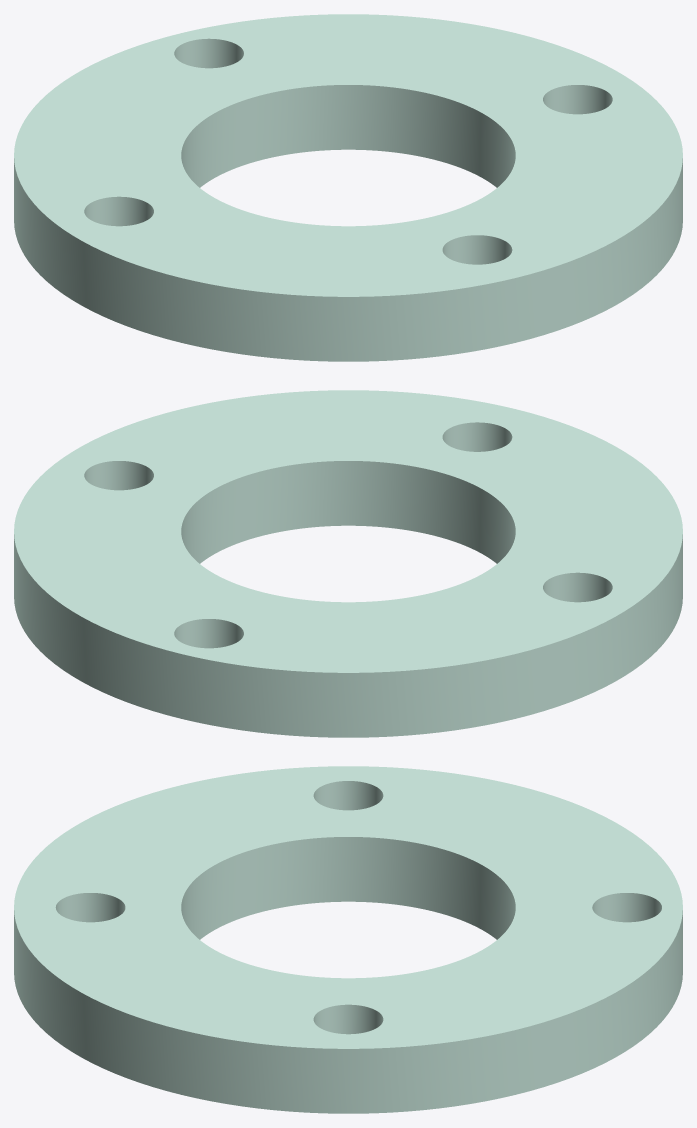
The picture shows the model from 3 angles, top to bottom: view 1: azimuth 30°, elevation 25°; view 2: azimuth 150°, elevation 25°; view 3: azimuth 270°, elevation 25°; orthographic projection.
Parts seen in each view (by area): view 1: Renderer Node; view 2: Renderer Node; view 3: Renderer Node.
Part boxes in pixels (left/top/right/bottom): Renderer Node: left=14, top=14, right=682, bottom=361; Renderer Node: left=14, top=390, right=682, bottom=737; Renderer Node: left=14, top=766, right=682, bottom=1113.
Size of the model in its own units: 0.584 by 0.0625 by 0.5842.
